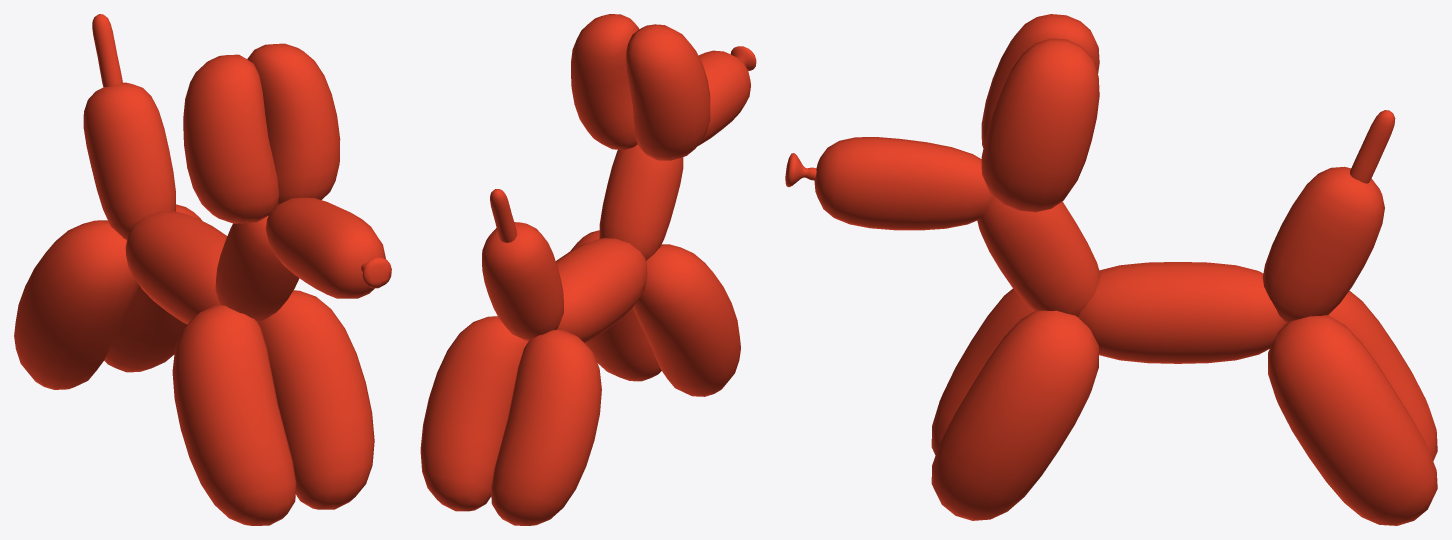
Rendered from balloon_dog.glb.
The picture shows the model from 3 angles, left to right: view 1: azimuth 30°, elevation 25°; view 2: azimuth 150°, elevation 25°; view 3: azimuth 270°, elevation 25°; orthographic projection. The views are drawn at different scales.
Visible parts, largest first — view 1: Cube.001_8, Cube.007_5, Cube.003_1, Cube.004_2, Cube.006_4, Cube_0, Cube.005_3, Cube.008_6, Cube.009_7; view 2: Cube.003_1, Cube.007_5, Cube.001_8, Cube.004_2, Cube_0, Cube.005_3, Cube.006_4, Cube.008_6; view 3: Cube.003_1, Cube.001_8, Cube.007_5, Cube_0, Cube.006_4, Cube.004_2, Cube.005_3, Cube.008_6.
Boxes of the visible parts, x1=… form: Cube.001_8: x1=172, y1=290, x2=374, y2=525; Cube.007_5: x1=183, y1=43, x2=340, y2=223; Cube.003_1: x1=14, y1=204, x2=202, y2=389; Cube.004_2: x1=83, y1=82, x2=175, y2=239; Cube.006_4: x1=265, y1=197, x2=385, y2=298; Cube_0: x1=125, y1=211, x2=227, y2=324; Cube.005_3: x1=215, y1=216, x2=299, y2=321; Cube.008_6: x1=92, y1=14, x2=122, y2=87; Cube.009_7: x1=361, y1=257, x2=391, y2=288; Cube.003_1: x1=420, y1=316, x2=601, y2=525; Cube.007_5: x1=571, y1=14, x2=710, y2=160; Cube.001_8: x1=570, y1=230, x2=740, y2=396; Cube.004_2: x1=482, y1=222, x2=563, y2=340; Cube_0: x1=556, y1=238, x2=647, y2=342; Cube.005_3: x1=599, y1=144, x2=683, y2=260; Cube.006_4: x1=698, y1=50, x2=750, y2=145; Cube.008_6: x1=490, y1=189, x2=517, y2=242; Cube.003_1: x1=1268, y1=290, x2=1437, y2=525; Cube.001_8: x1=931, y1=288, x2=1098, y2=520; Cube.007_5: x1=981, y1=14, x2=1099, y2=212; Cube_0: x1=1078, y1=262, x2=1286, y2=363; Cube.006_4: x1=814, y1=137, x2=992, y2=230; Cube.004_2: x1=1262, y1=166, x2=1384, y2=323; Cube.005_3: x1=977, y1=196, x2=1100, y2=316; Cube.008_6: x1=1350, y1=110, x2=1395, y2=183.
Bounding box in the file's own units: 3.74 × 8.99 × 11.23.
